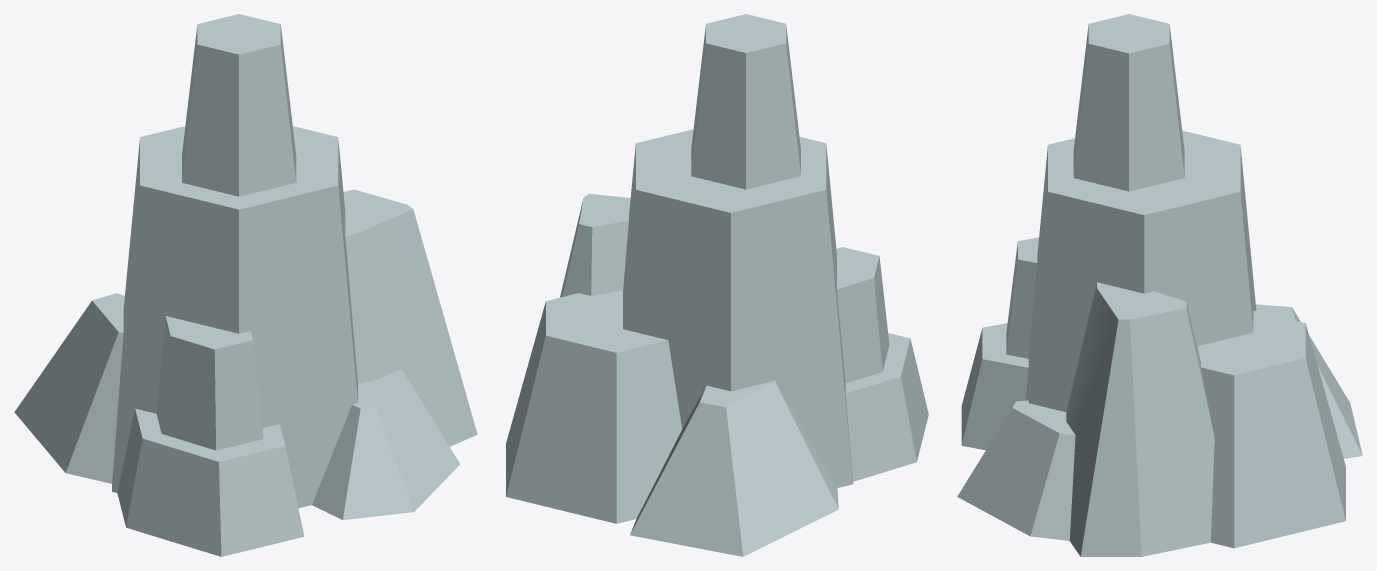
The picture shows the model from 3 angles, left to right: view 1: azimuth 30°, elevation 25°; view 2: azimuth 150°, elevation 25°; view 3: azimuth 270°, elevation 25°; orthographic projection. The views are drawn at different scales.
Visible parts, largest first — view 1: stone_tallB; view 2: stone_tallB; view 3: stone_tallB.
Boxes of the visible parts, box(x1,y1,x2,y2) form: stone_tallB: box(14, 14, 477, 556); stone_tallB: box(506, 14, 928, 556); stone_tallB: box(957, 14, 1362, 556).
Bounding box in the file's own units: 4.82 × 5.57 × 4.85.
